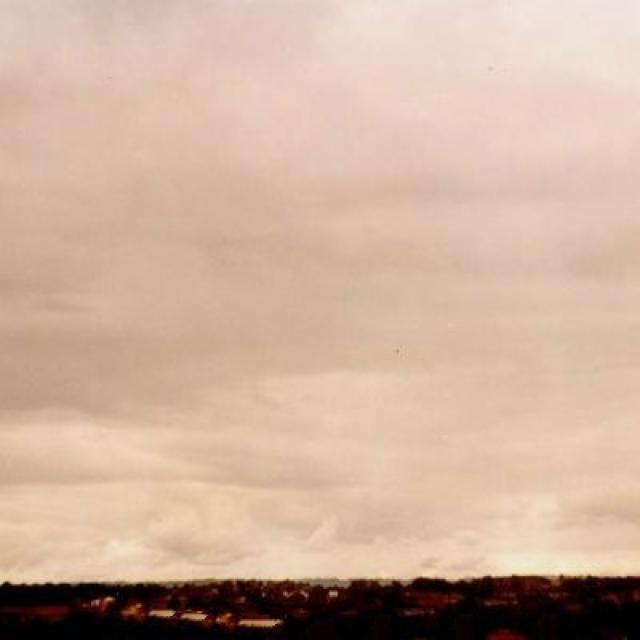Sc: (2, 170, 640, 553)
